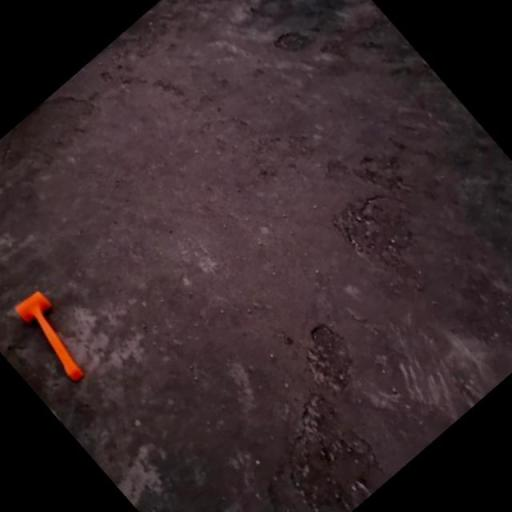mallet: (12, 286, 102, 384)
